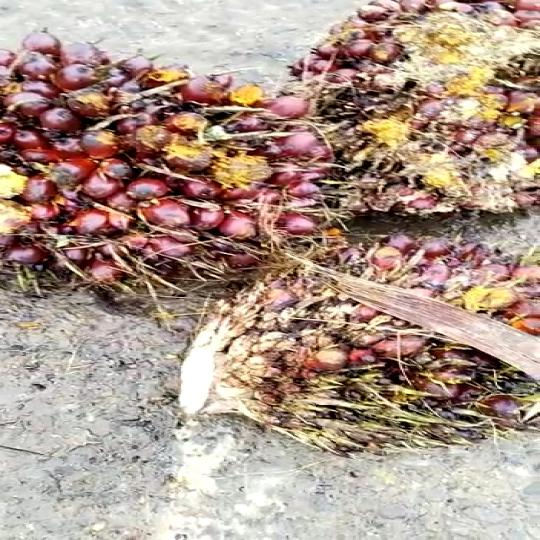masak: (0, 23, 339, 304), (157, 228, 540, 454)
